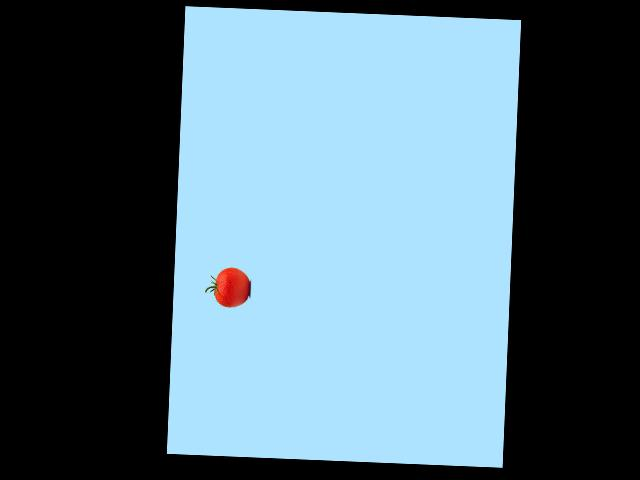tomato: (214, 266, 250, 307)
